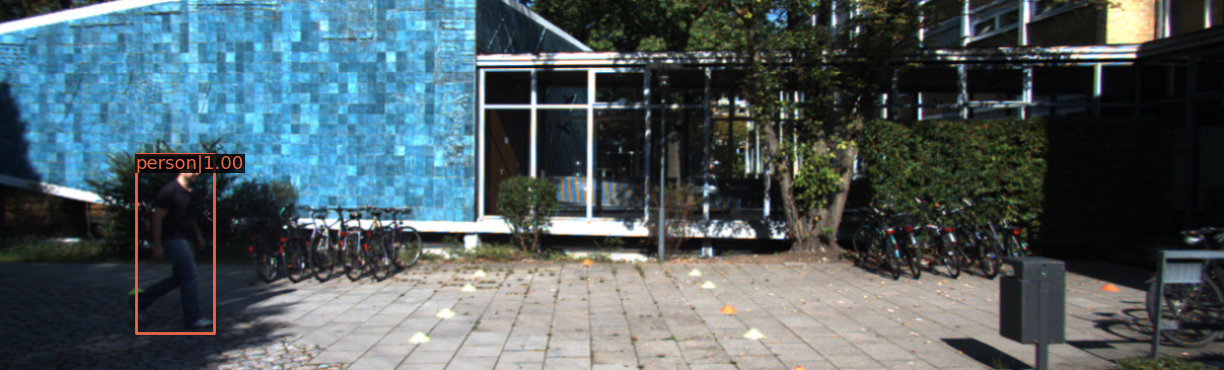person: (134, 148, 223, 332)
